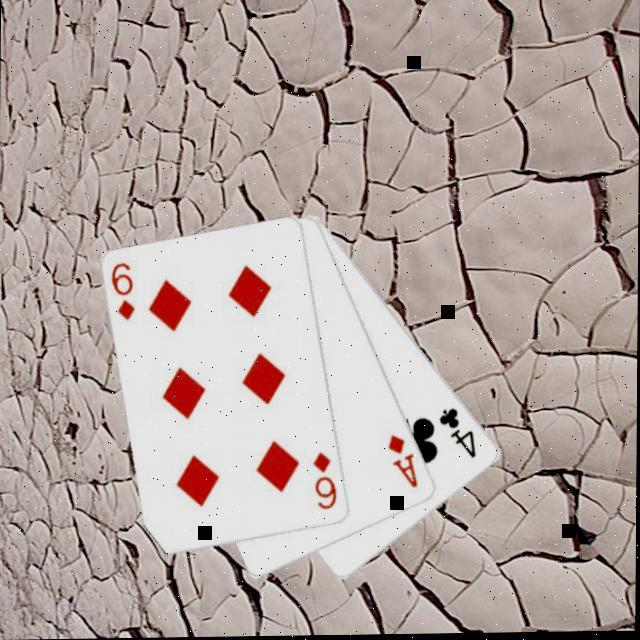4C: (434, 407, 479, 466)
6D: (309, 452, 339, 516), (107, 262, 137, 326)
AD: (384, 434, 421, 494)
